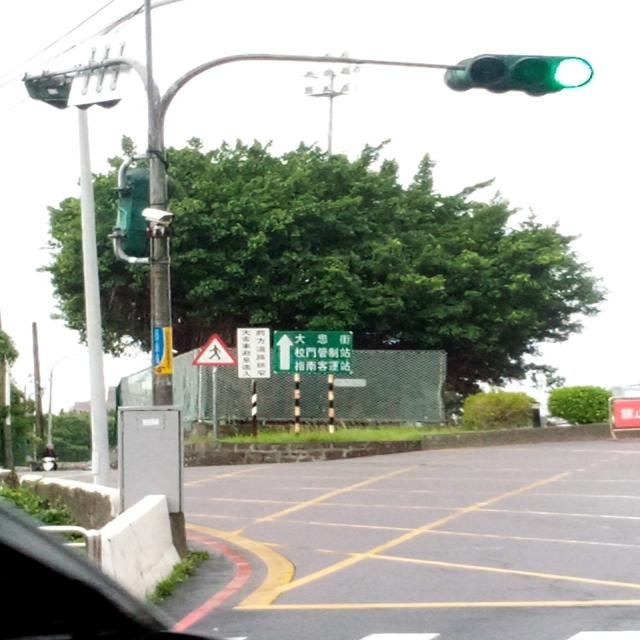green light: (446, 53, 594, 95)
